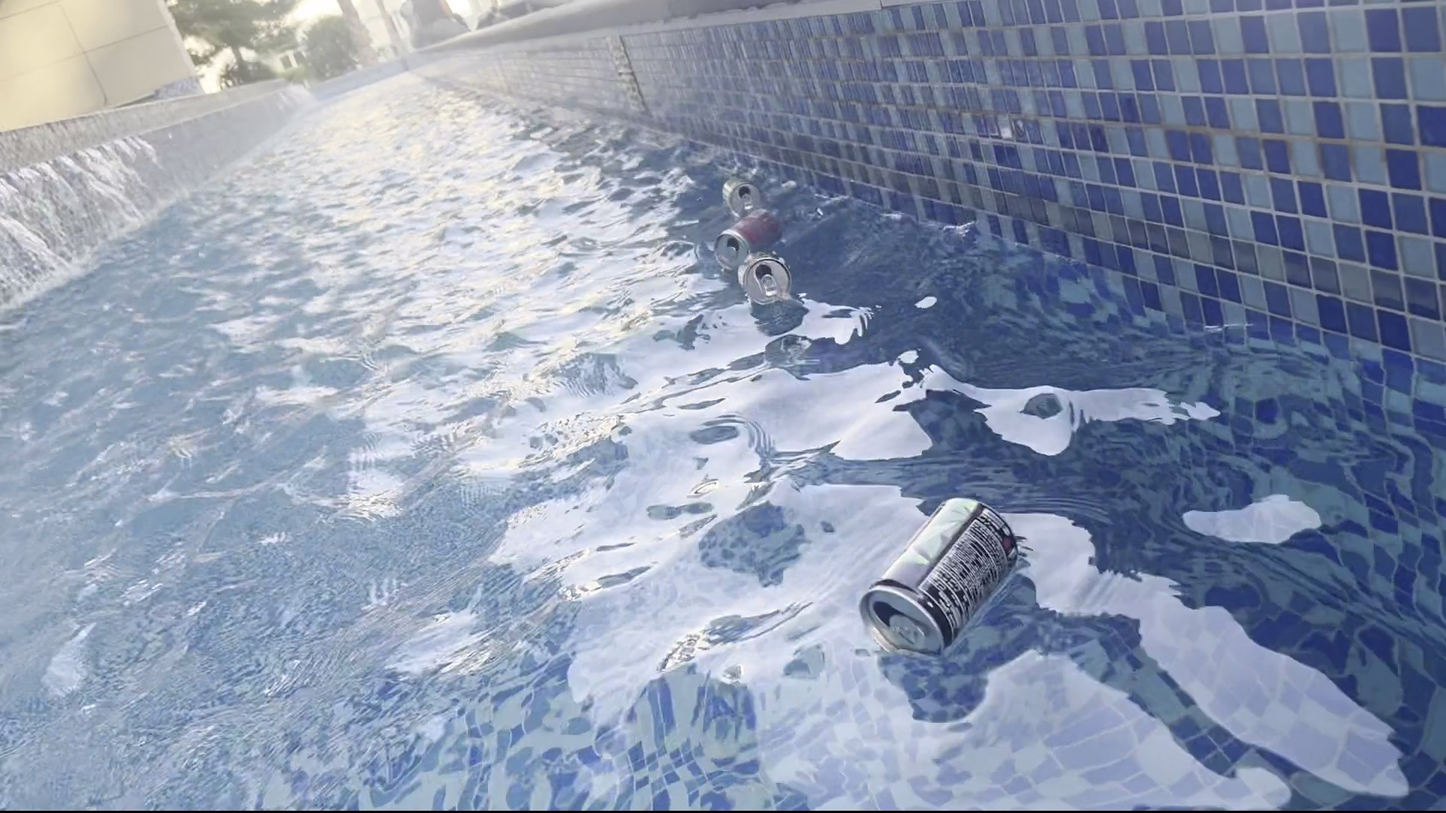debris: (852, 486, 1024, 671), (709, 202, 782, 271), (731, 247, 798, 312), (716, 172, 764, 218)
